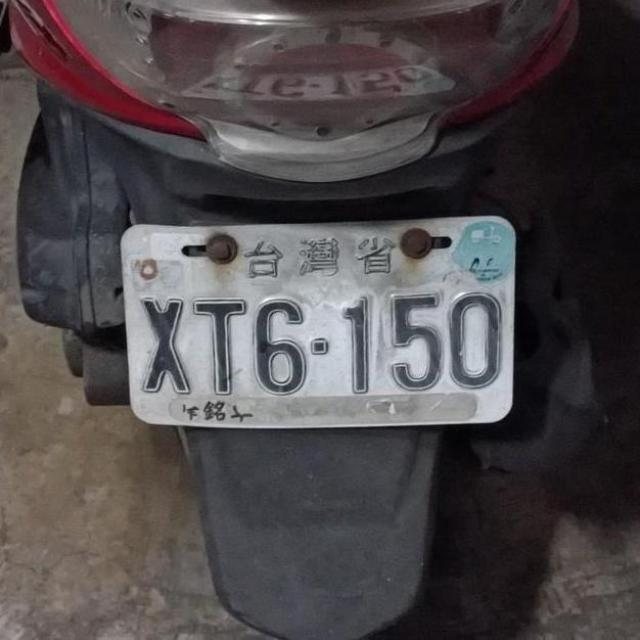W: (109, 198, 535, 446)
